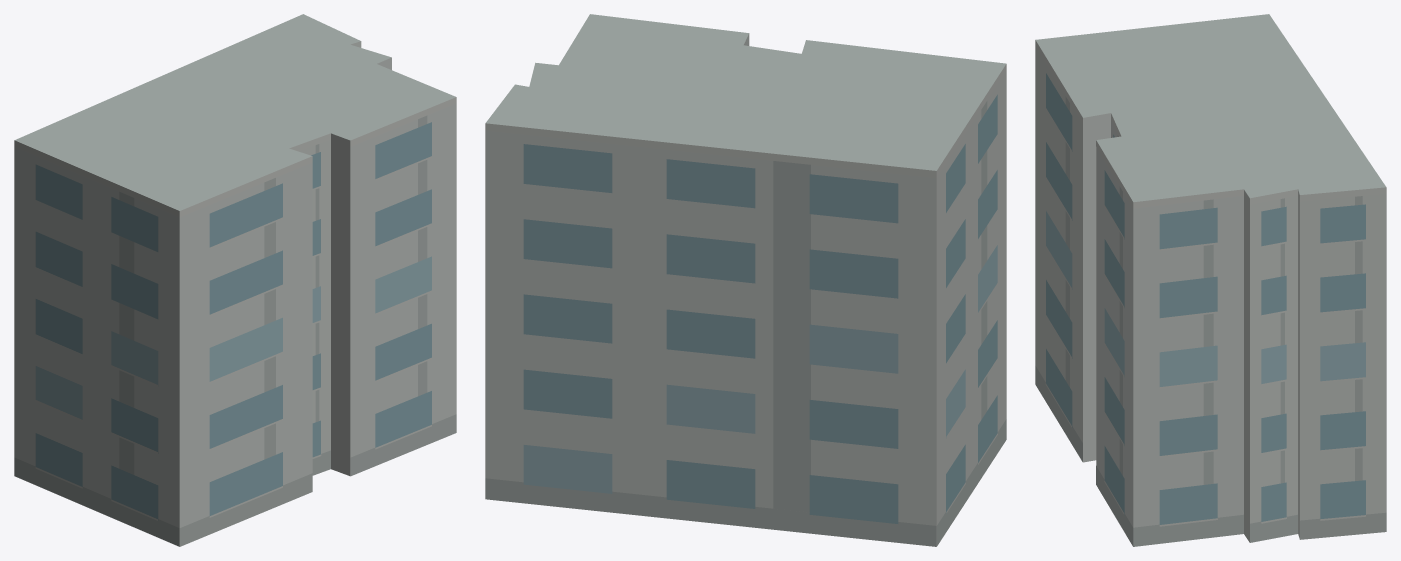
The model's file is survey-upis-32724559.glb.
3 renders of one model, left to right at view 1: azimuth 30°, elevation 25°; view 2: azimuth 150°, elevation 25°; view 3: azimuth 270°, elevation 25°, orthographic. The views are drawn at different scales.
Visible parts, largest first — view 1: survey-upis-32724559.tmp; view 2: survey-upis-32724559.tmp; view 3: survey-upis-32724559.tmp.
Part boxes in pixels (x1=…): survey-upis-32724559.tmp: x1=14, y1=14, x2=456, y2=546; survey-upis-32724559.tmp: x1=485, y1=14, x2=1006, y2=546; survey-upis-32724559.tmp: x1=1035, y1=14, x2=1386, y2=546.
Bounding box in the file's own units: 15 × 12.8 × 11.83.
